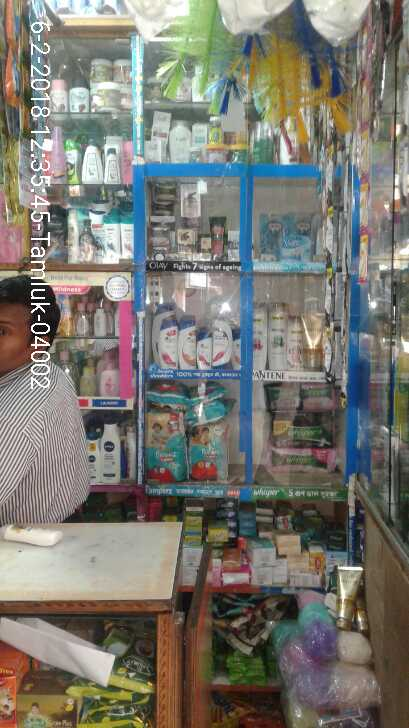venus: (285, 212, 315, 260), (262, 212, 285, 260)
